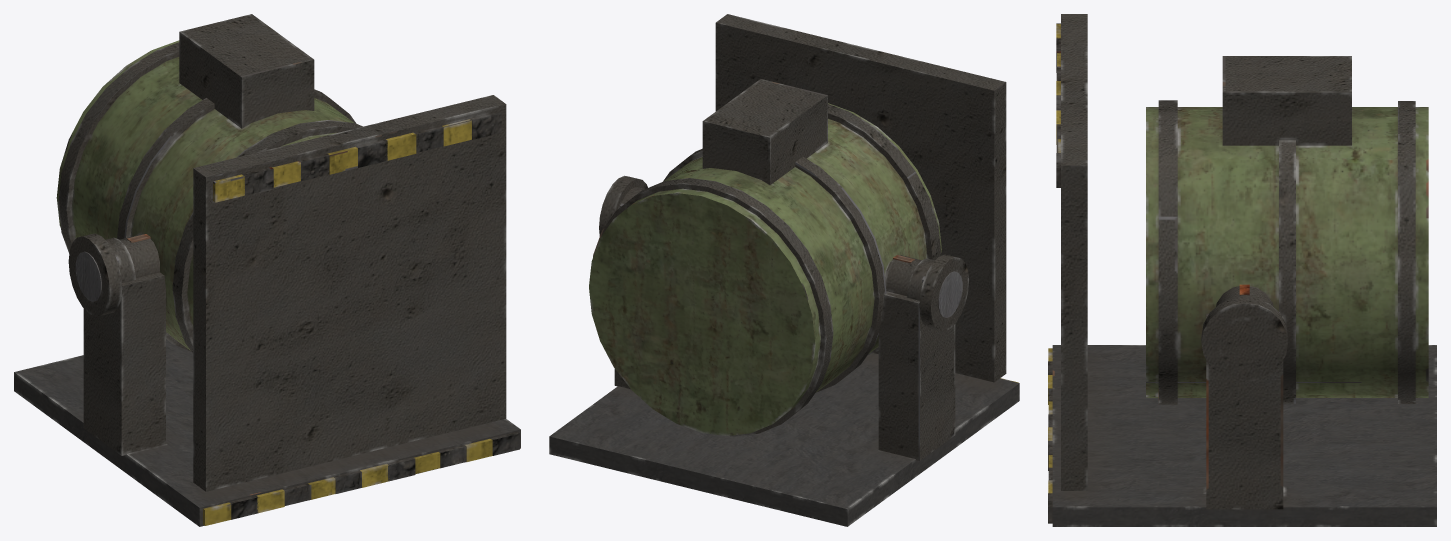
File: feMechPiston_HD.fbx
The picture shows the model from 3 angles, left to right: view 1: azimuth 30°, elevation 25°; view 2: azimuth 150°, elevation 25°; view 3: azimuth 270°, elevation 25°; orthographic projection. The views are drawn at different scales.
Parts seen in each view (by area): view 1: feMechPiston_Base, FeSpin_DriveShaft; view 2: feMechPiston_Base, FeSpin_DriveShaft; view 3: feMechPiston_Base, FeSpin_DriveShaft.
Boxes of the visible parts, x1,y1,x2,y2 form: feMechPiston_Base: (14, 14, 520, 526); FeSpin_DriveShaft: (68, 233, 150, 316); feMechPiston_Base: (549, 14, 1019, 526); FeSpin_DriveShaft: (599, 175, 968, 331); feMechPiston_Base: (1048, 14, 1436, 526); FeSpin_DriveShaft: (1201, 284, 1288, 381).
Bounding box in the file's own units: 1 × 0.9624 × 0.9121.
Materials: 1 (1 with a texture image).
